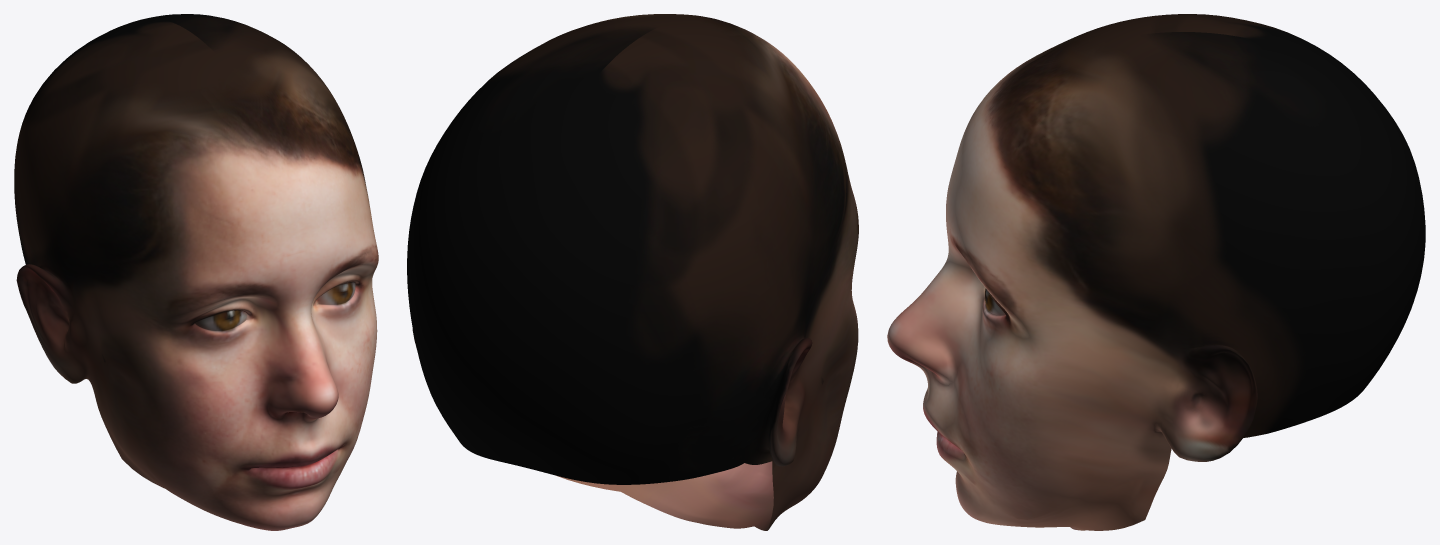
The picture shows the model from 3 angles, left to right: view 1: azimuth 30°, elevation 25°; view 2: azimuth 150°, elevation 25°; view 3: azimuth 270°, elevation 25°; orthographic projection. The views are drawn at different scales.
Visible parts, largest first — view 1: FBHead.002; view 2: FBHead.002; view 3: FBHead.002.
Part boxes in pixels (x1=…): FBHead.002: x1=14, y1=14, x2=378, y2=530; FBHead.002: x1=407, y1=14, x2=858, y2=530; FBHead.002: x1=887, y1=14, x2=1425, y2=530.
Bounding box in the file's own units: 1.45 × 1.97 × 1.97.
1 material, 1 textured.
